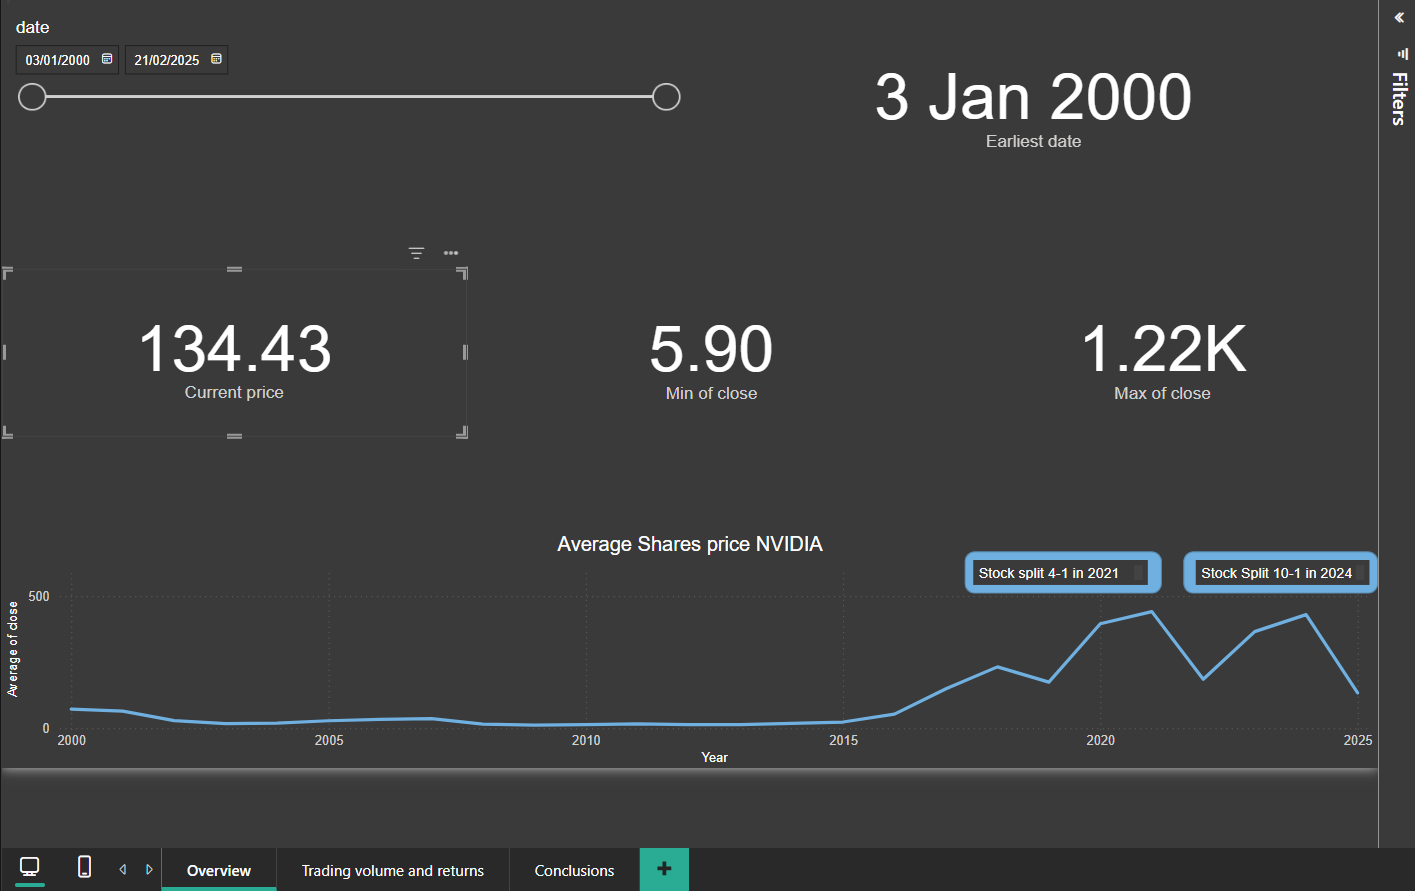

What the dashboard file says about the page in this screenshot:
{"tool":"powerbi","page":{"name":"Overview","canvas":[1280,720],"ordinal":0},"visuals":[{"type":"card","fields":{"Values":["Max(nvidia_stock_data_clean.close)"]},"box":[902.9,255.2,352.7,156.4],"z":0},{"type":"card","fields":{"Values":["Min(nvidia_stock_data_clean.close)"]},"box":[417.2,255.2,485.8,156.4],"z":1000},{"type":"card","title":"Currently price","fields":{"Values":["nvidia_stock_data_clean.Cotizacion Actual"]},"box":[0,255.2,432.3,156.1],"z":2000},{"type":"slicer","fields":{"Values":["nvidia_stock_data_clean.date"]},"box":[0,16.5,639.5,181.1],"z":3000},{"type":"card","fields":{"Values":["Min(nvidia_stock_data_clean.date)"]},"box":[639.5,0,640.8,197.6],"z":4000},{"type":"lineChart","title":"Average Shares price NVIDIA","fields":{"Category":["nvidia_stock_data_clean.date.Variation.Date Hierarchy.Year","nvidia_stock_data_clean.date.Variation.Date Hierarchy.Quarter","nvidia_stock_data_clean.date.Variation.Date Hierarchy.Month","nvidia_stock_data_clean.date.Variation.Date Hierarchy.Day"],"Y":["Avg(nvidia_stock_data_clean.close)"]},"box":[0,499.5,1280.3,220.9],"z":5000},{"type":"textbox","box":[0,0,12.3,12.3],"z":6000},{"type":"shape","box":[895.4,517.4,183.7,39.5],"z":7000},{"type":"textbox","box":[903.5,525.6,162.8,23.3],"z":8000},{"type":"shape","box":[1098.8,517.4,181.4,39.5],"z":9000},{"type":"textbox","box":[1110.5,525.6,161.6,23.3],"z":10000}]}

Visuals, with their boxes on the page's 1280x720 design canvas (x1, y1, x2, y2). These are canvas units, not pixel positions in the 1415x891 screenshot, which may show the page scaled, cropped or inside an application window:
card - Max(nvidia_stock_data_clean.close): box=[903, 255, 1256, 412]
card - Min(nvidia_stock_data_clean.close): box=[417, 255, 903, 412]
"Currently price" card: box=[0, 255, 432, 411]
slicer - nvidia_stock_data_clean.date: box=[0, 16, 640, 198]
card - Min(nvidia_stock_data_clean.date): box=[640, 0, 1280, 198]
"Average Shares price NVIDIA" lineChart: box=[0, 500, 1280, 720]
textbox: box=[0, 0, 12, 12]
shape: box=[895, 517, 1079, 557]
textbox: box=[904, 526, 1066, 549]
shape: box=[1099, 517, 1280, 557]
textbox: box=[1110, 526, 1272, 549]
